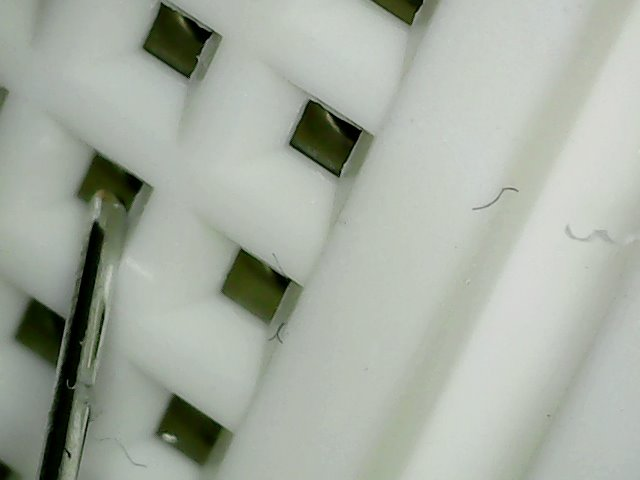faulty: (50, 125, 173, 258)
